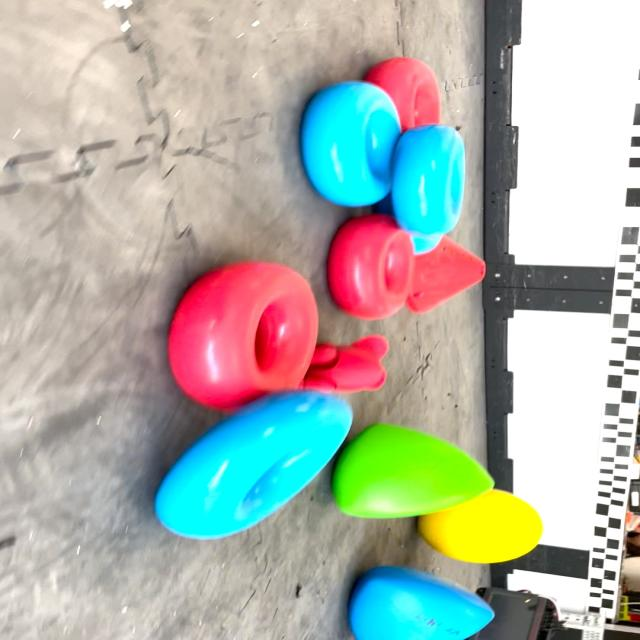Blue-Ring: (156, 390, 351, 539), (300, 81, 400, 206), (391, 124, 464, 236)
Red-Ring: (169, 261, 318, 411), (329, 214, 413, 320), (364, 58, 440, 131)
